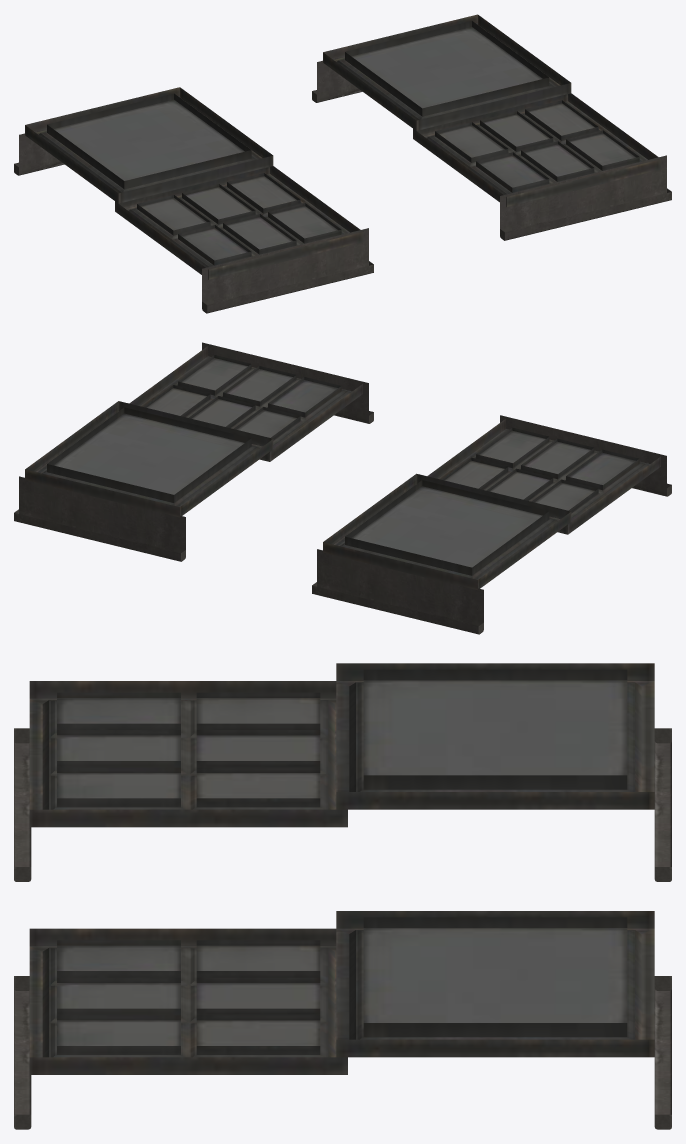
Rendered from window_centered_double_03.gltf.
The picture shows the model from 3 angles, top to bottom: view 1: azimuth 30°, elevation 25°; view 2: azimuth 150°, elevation 25°; view 3: azimuth 270°, elevation 25°; orthographic projection. The views are drawn at different scales.
Parts seen in each view (by area): view 1: window_centered_double_03; view 2: window_centered_double_03; view 3: window_centered_double_03.
Boxes of the visible parts, <box> form: window_centered_double_03: <box>14,14,671,313</box>; window_centered_double_03: <box>14,342,671,634</box>; window_centered_double_03: <box>14,663,671,1129</box>.
Bounding box in the file's own units: 2.34 × 0.2549 × 1.68.
Materials: 3 (3 with a texture image).
